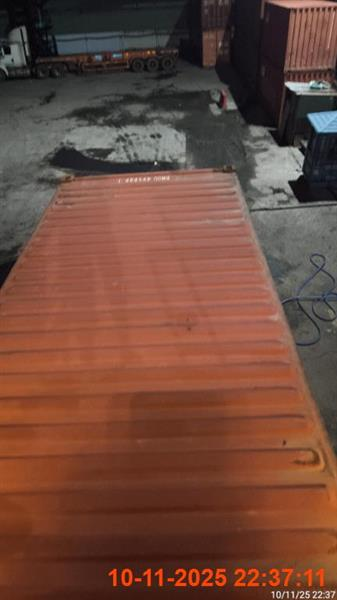hole: (0, 165, 336, 597)
